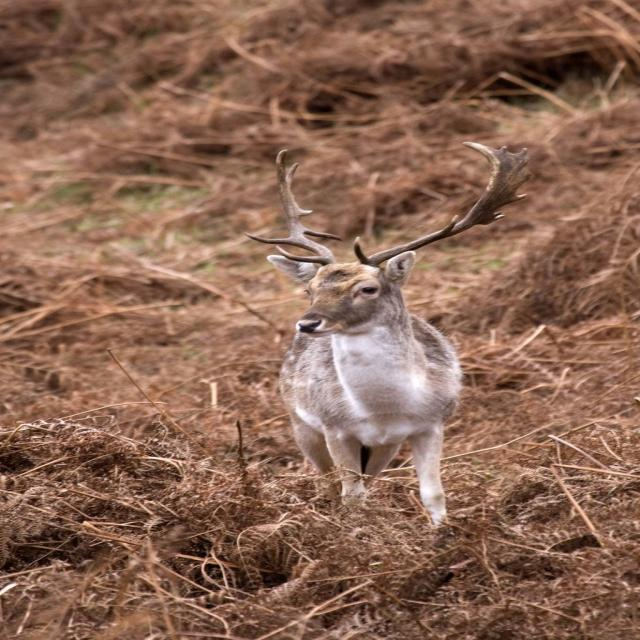Deer: (243, 141, 531, 537)
